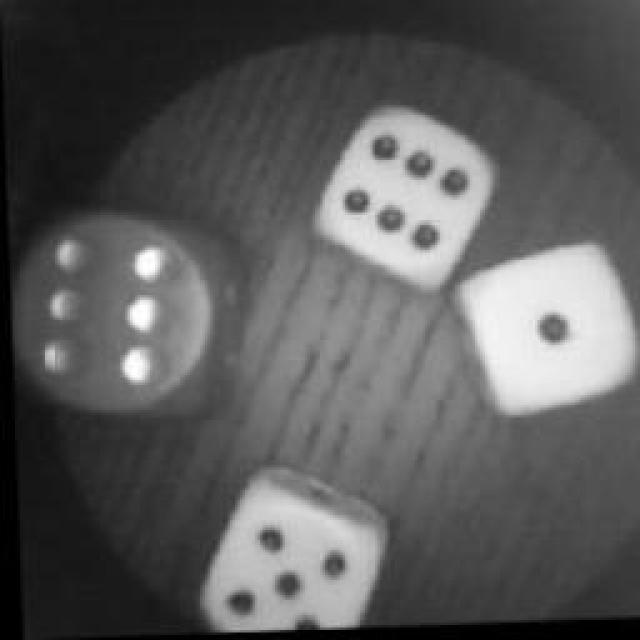dice_1: (452, 238, 640, 430)
dice_5: (184, 480, 386, 635)
dice_6: (5, 199, 243, 431), (309, 101, 499, 296)
